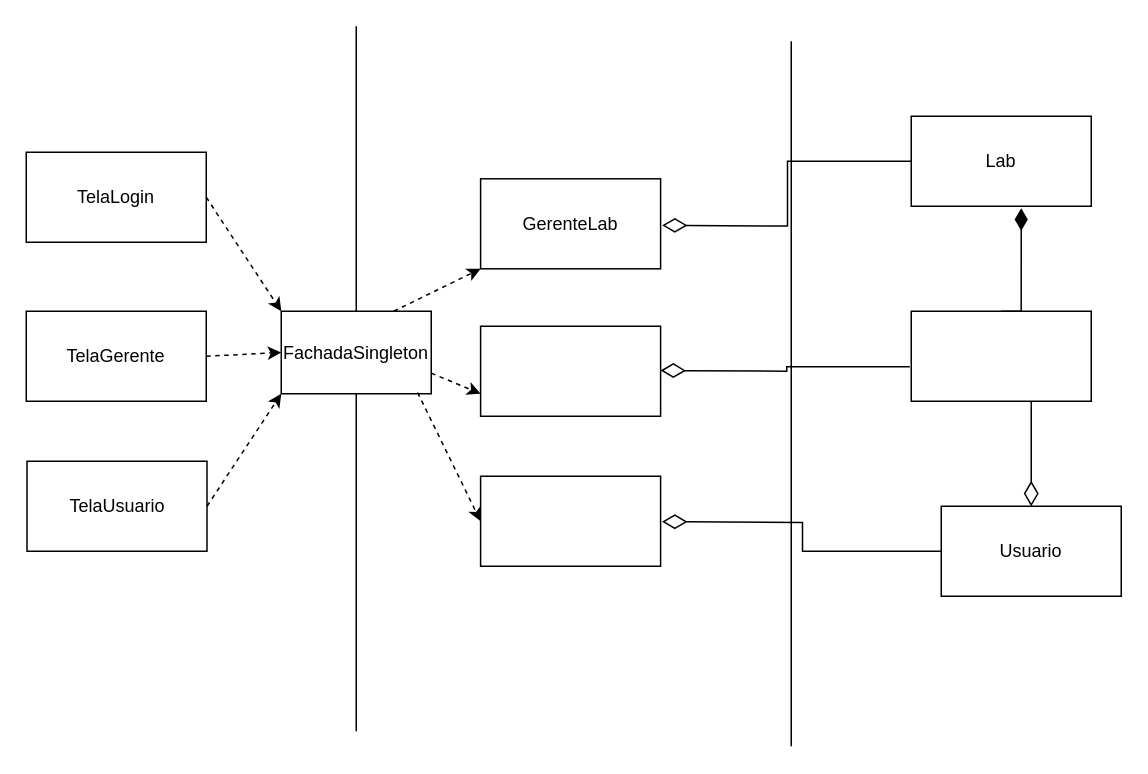
The diagram is 1148 pixels wide and 774 high, and some of its shapes have lost their labels. Each missing label, with the centre of its shape:
"GerenteReserva" goes at pixel 570 370.
"GerenteUsuario" goes at pixel 570 520.
"Reserva" goes at pixel 1000 355.
